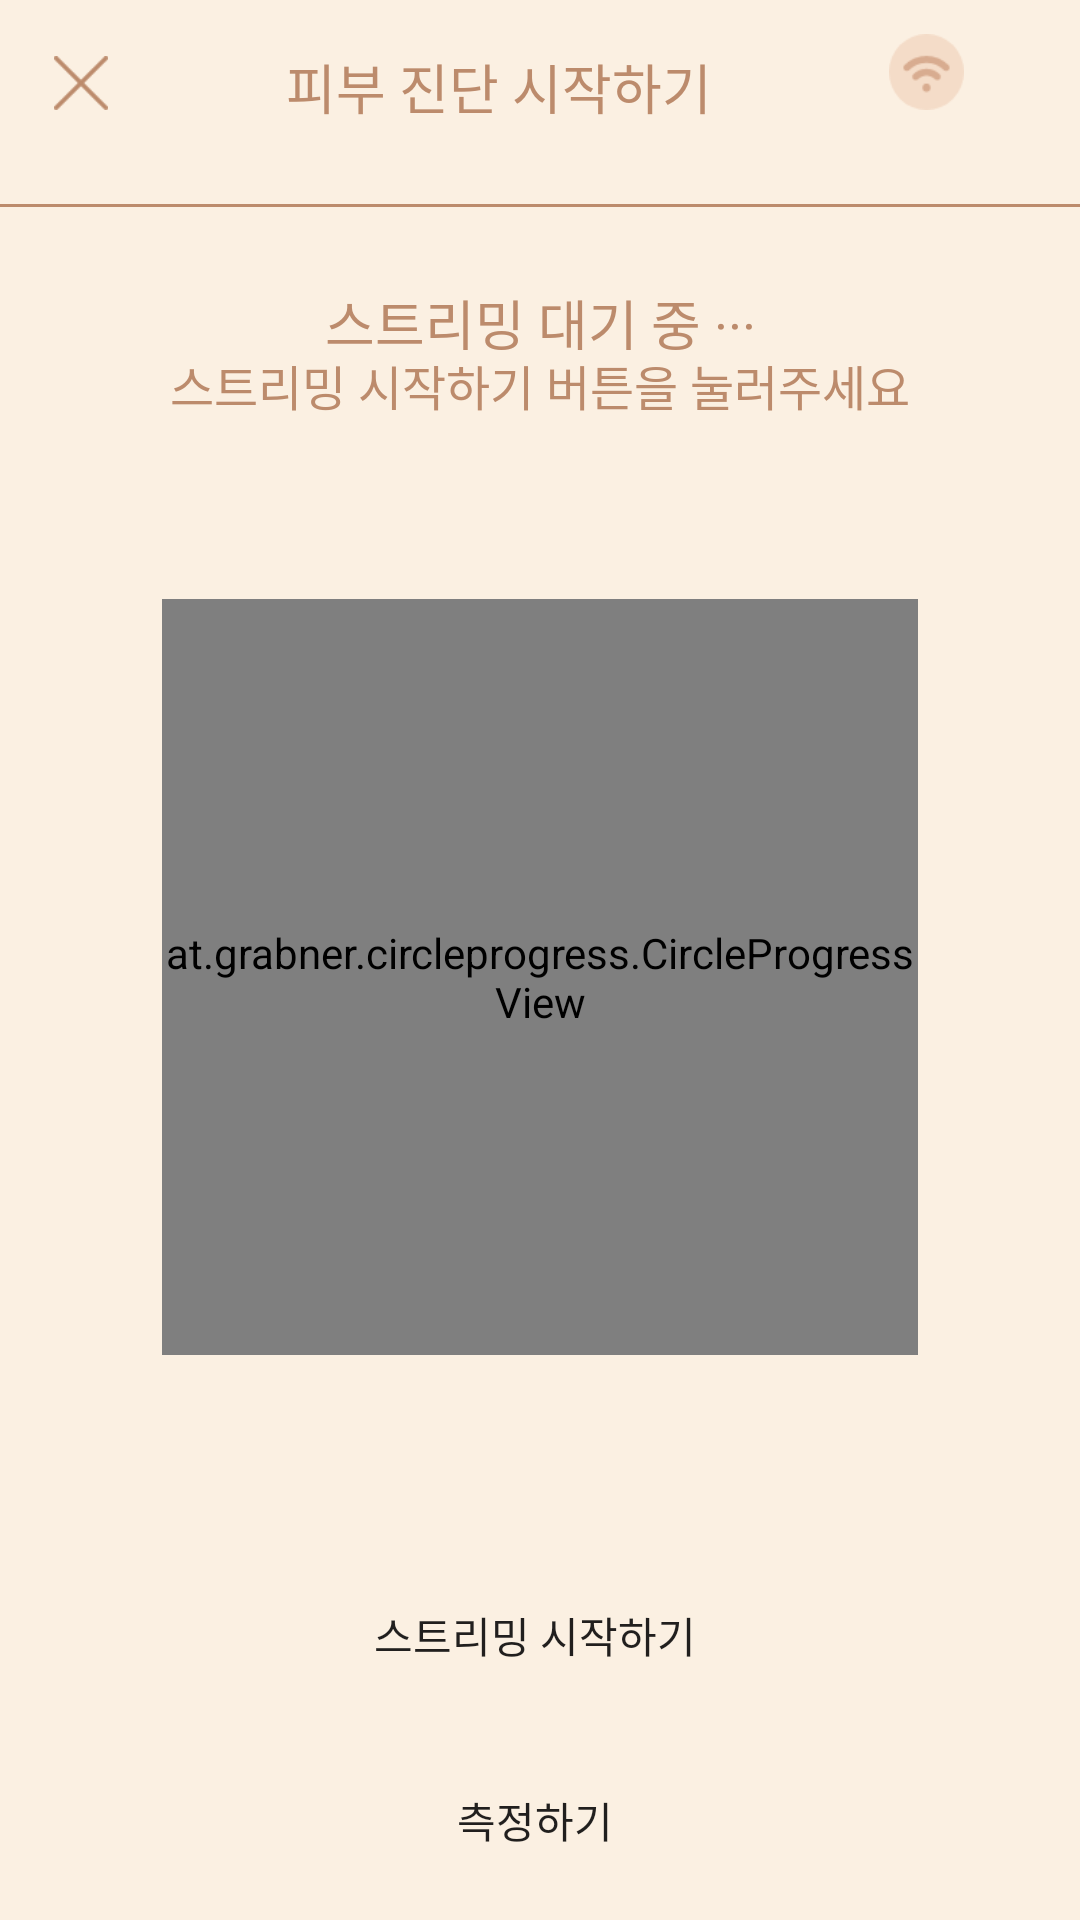

Icon click points for this 1080px×1920px phone screenshot, format point (x, y):
start check wifi off: point (926, 72)
